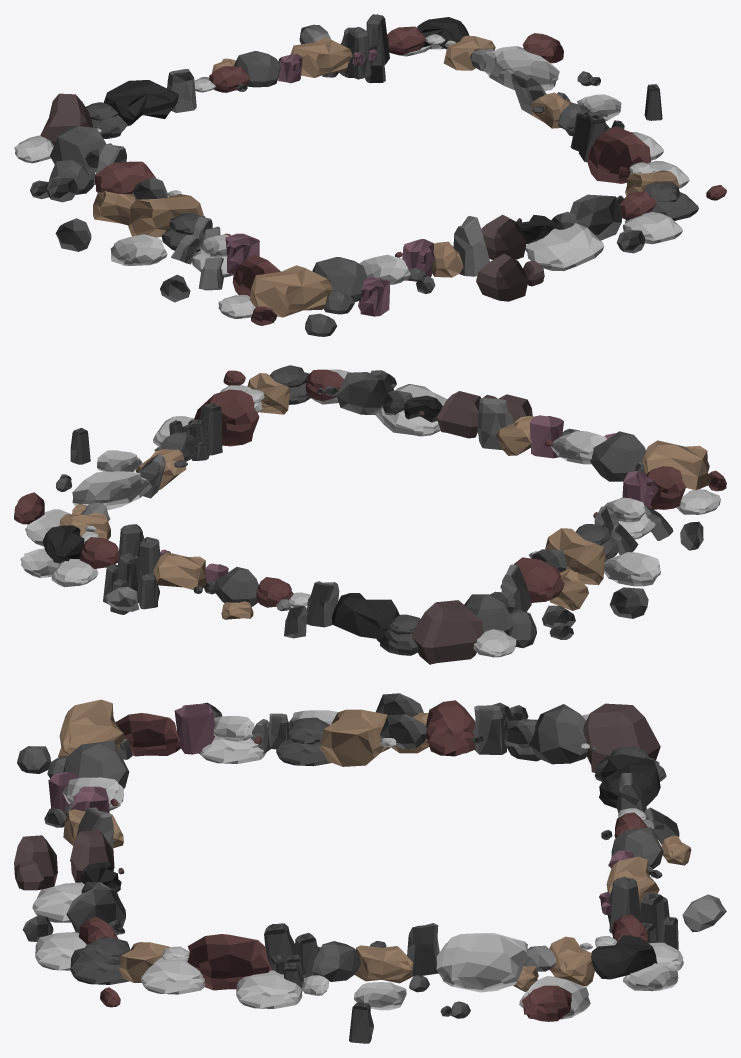
Rendered from Rocks.fbx.
3 renders of one model, top to bottom at view 1: azimuth 30°, elevation 25°; view 2: azimuth 150°, elevation 25°; view 3: azimuth 270°, elevation 25°, orthographic. The views are drawn at different scales.
Parts seen in each view (by area): view 1: stone009__26_; view 2: stone009__26_; view 3: stone009__26_.
Boxes of the visible parts, x1,y1,x2,y2 form: stone009__26_: [14, 14, 726, 336]; stone009__26_: [14, 365, 726, 664]; stone009__26_: [14, 693, 726, 1043].
Size of the model in its own units: 9644 by 1143 by 8741.
